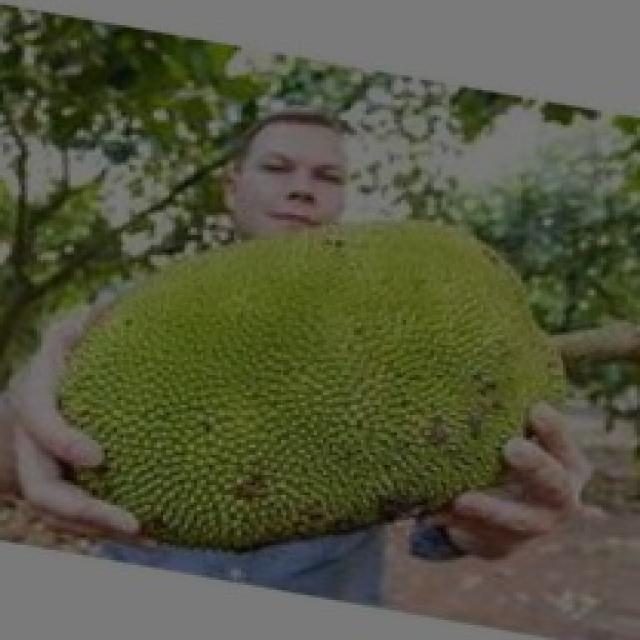Fruit: (24, 205, 418, 600), (215, 182, 603, 572)
